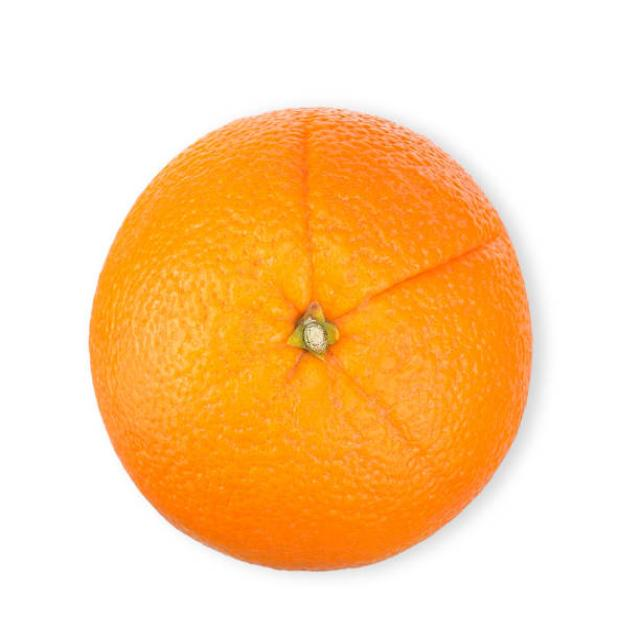Ripe: (82, 101, 537, 575)
